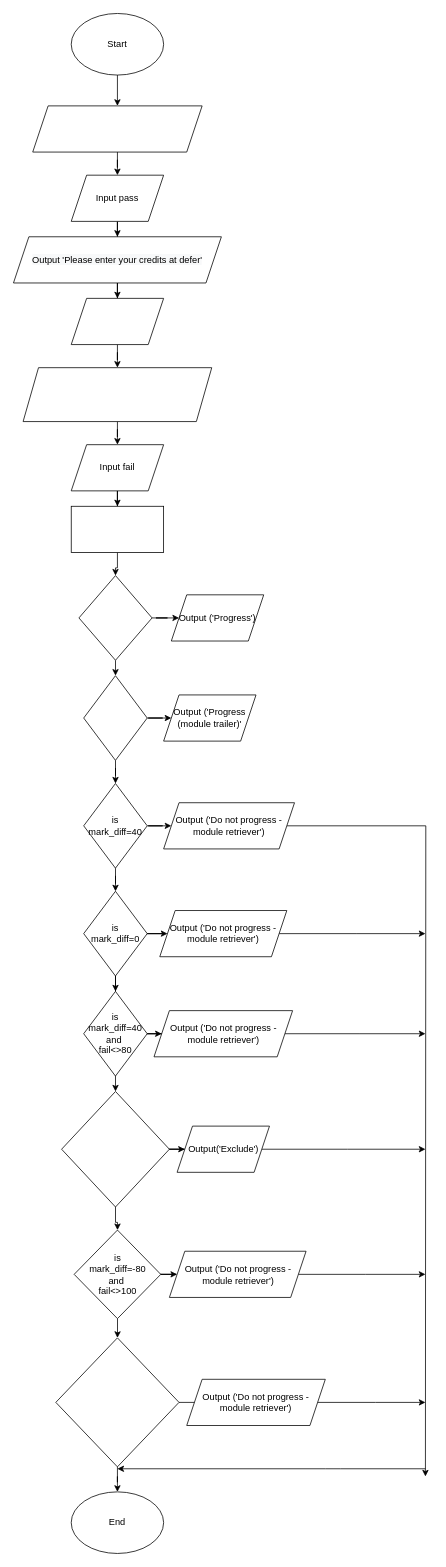
Image size: 446x1567. Some labels were removed from this diagram. Each missing label, with the box of its shape:
Input defer: (70, 298, 164, 345)
is fail=80 or fail=100 or fail=120: (61, 1091, 169, 1207)
is mark_diff=120: (78, 575, 152, 660)
is mark_diff=80: (83, 675, 147, 760)
is Pass=0 and fail<>100 and fail<>120 and fail<>80: (55, 1337, 179, 1467)
mark=defer+fail mark_diff=Pass-mark: (70, 506, 164, 552)
Output 'Please enter your credits at fail:': (22, 367, 212, 422)
Output 'Please enter your credits at pass:': (32, 105, 202, 152)
